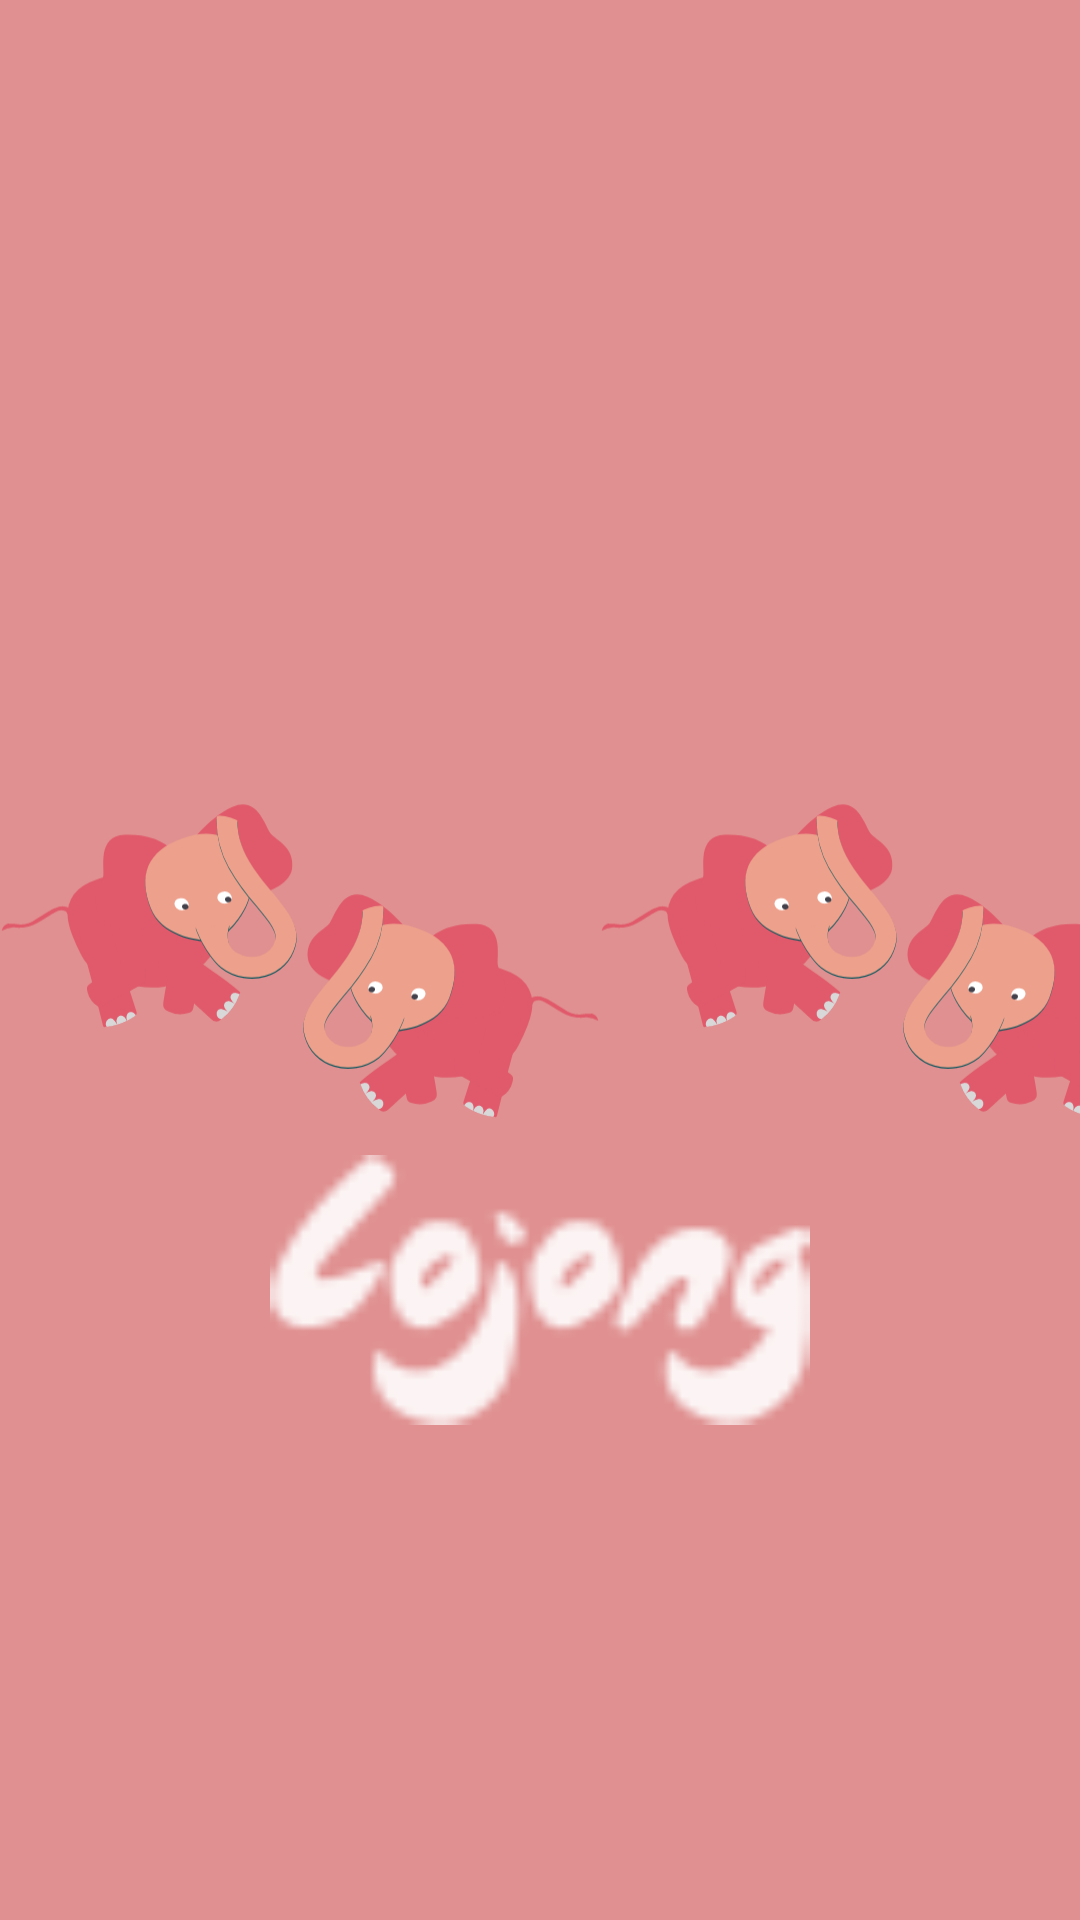

Screen size 1080×1920. Icon name, then its box in pixels as (x1, y1, x2, y2):
elephant to right: (2, 804, 297, 1027), (602, 804, 897, 1027)
